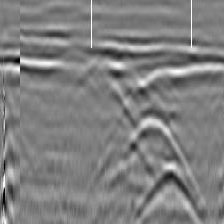Utility: (132, 168, 207, 223), (125, 112, 197, 164)
